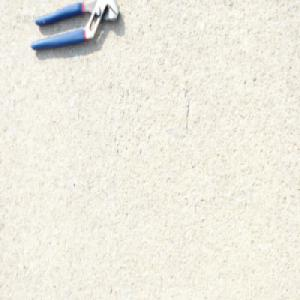Pliers: (28, 0, 121, 51)
